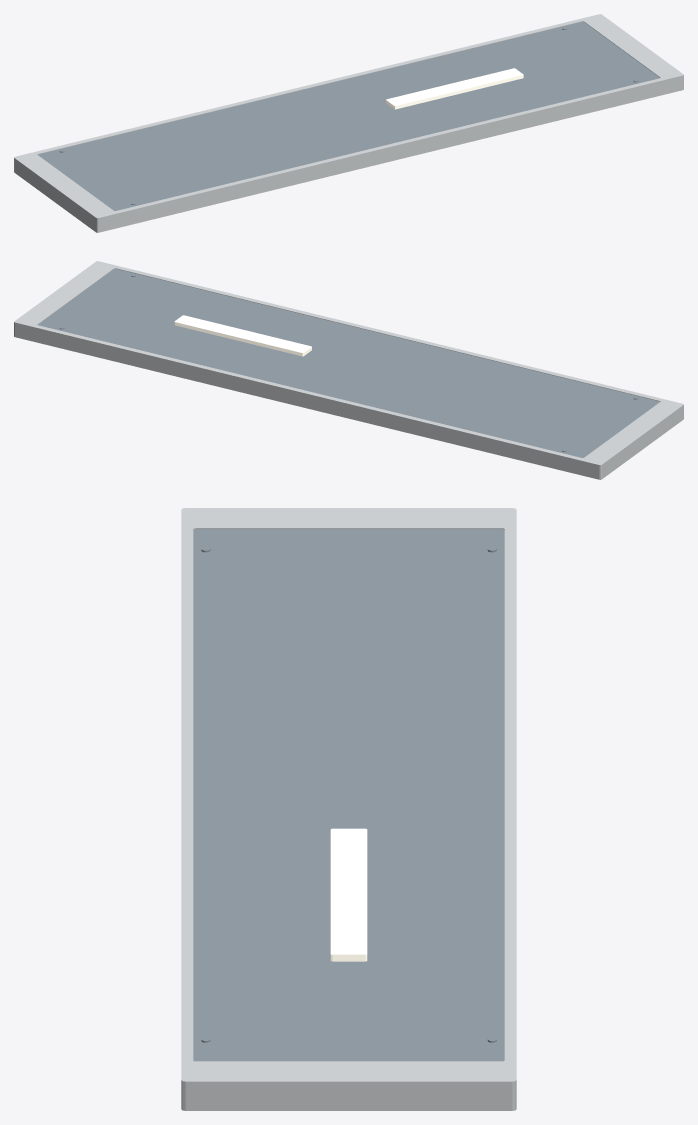
The model's file is source.glb.
The picture shows the model from 3 angles, top to bottom: view 1: azimuth 30°, elevation 25°; view 2: azimuth 150°, elevation 25°; view 3: azimuth 270°, elevation 25°; orthographic projection. The views are drawn at different scales.
Parts seen in each view (by area): view 1: 机加工金属, 粉末涂层铝壳, Emitters; view 2: 机加工金属, 粉末涂层铝壳, Emitters; view 3: 机加工金属, 粉末涂层铝壳, Emitters.
Part boxes in pixels (x1,y1,x2,y2): 机加工金属: (38,21,659,210); 粉末涂层铝壳: (14,14,683,232); Emitters: (386,68,523,109); 机加工金属: (38,268,659,457); 粉末涂层铝壳: (14,261,683,479); Emitters: (174,315,311,356); 机加工金属: (193,529,504,1061); 粉末涂层铝壳: (181,508,516,1110); Emitters: (330,828,367,961).
Bounding box in the file's own units: 1.2 × 0.0407 × 0.295.
